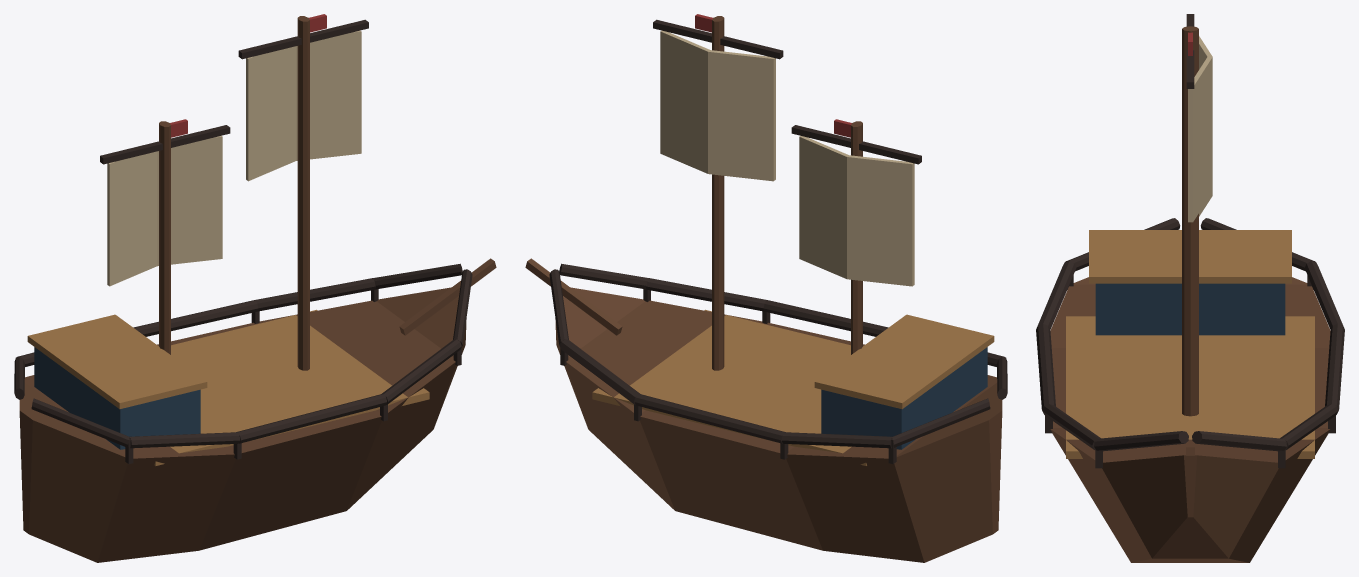
Rendered from PirateCove_ShipBow_Simple.glb.
3 views of the same model, side by side, from view 1: azimuth 30°, elevation 25°; view 2: azimuth 150°, elevation 25°; view 3: azimuth 270°, elevation 25° (orthographic). The views are drawn at different scales.
Parts seen in each view (by area): view 1: PirateCove_ShipBow_Simple; view 2: PirateCove_ShipBow_Simple; view 3: PirateCove_ShipBow_Simple.
Part boxes in pixels (x1,y1,x2,y2): PirateCove_ShipBow_Simple: (14,14,496,562); PirateCove_ShipBow_Simple: (525,14,1007,562); PirateCove_ShipBow_Simple: (1036,14,1344,562).
Bounding box in the file's own units: 3.49 × 3.38 × 1.79.
